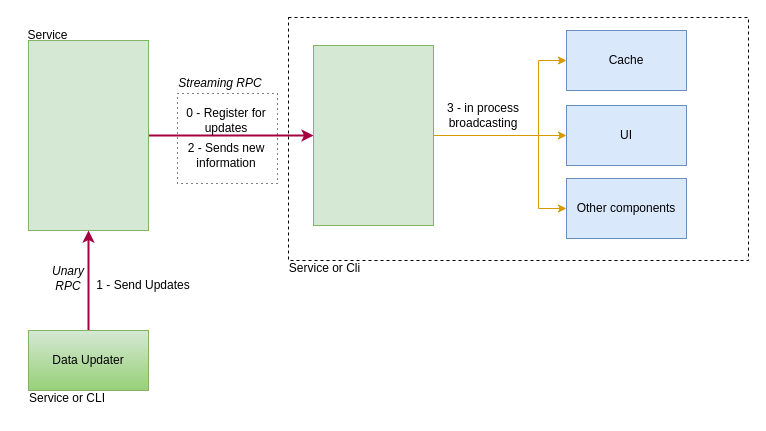
Image size: 766x431. Some labels were removed from this diagram. The box of each missing label's shape, as (x1, y1, x2, y2) in pixels:
Data Consumer: (312, 44, 434, 226)
Data Source: (28, 40, 148, 230)
